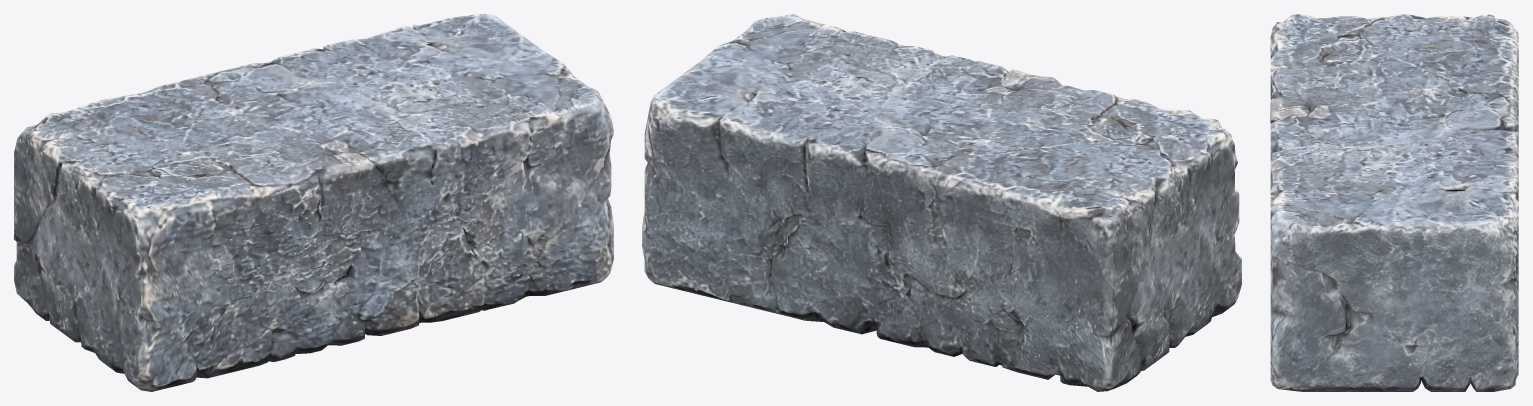
The model's file is base_basic_shaded.fbx.
3 views of the same model, side by side, from view 1: azimuth 30°, elevation 25°; view 2: azimuth 150°, elevation 25°; view 3: azimuth 270°, elevation 25° (orthographic). The views are drawn at different scales.
Visible parts, largest first — view 1: model; view 2: model; view 3: model.
Part boxes in pixels (box(x1,y1,x2,y2)): model: box(14, 14, 613, 391); model: box(642, 14, 1241, 391); model: box(1270, 14, 1518, 391).
Bounding box in the file's own units: 190 × 69.82 × 92.04.
